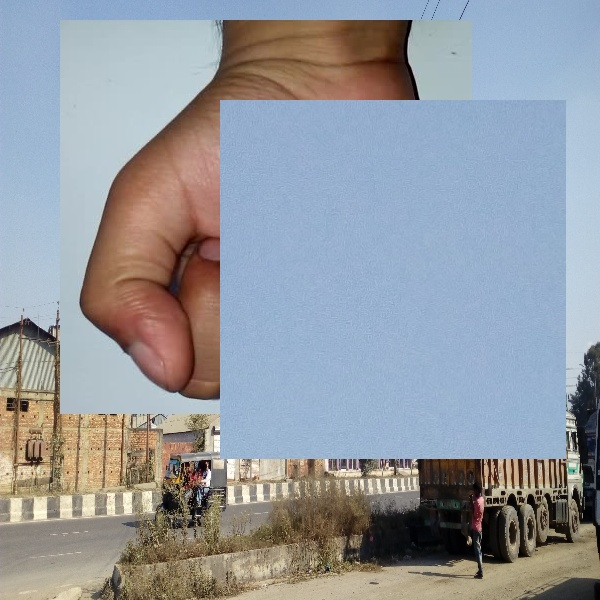A: (220, 100, 566, 459)
